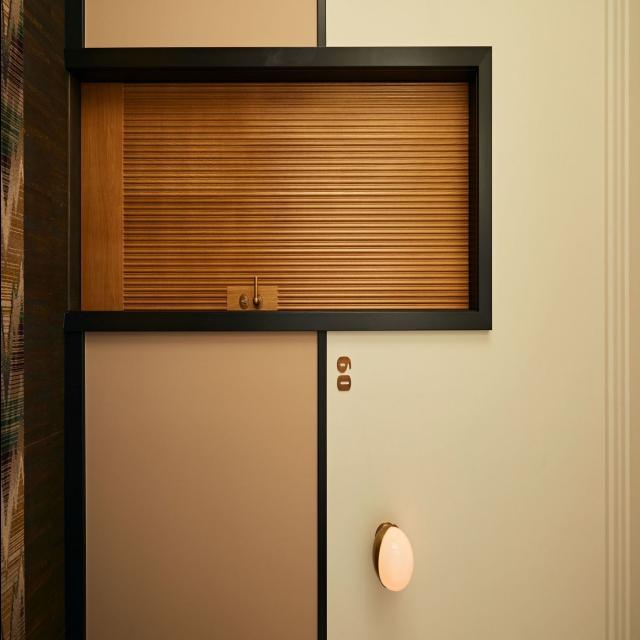close: (74, 51, 484, 337)
